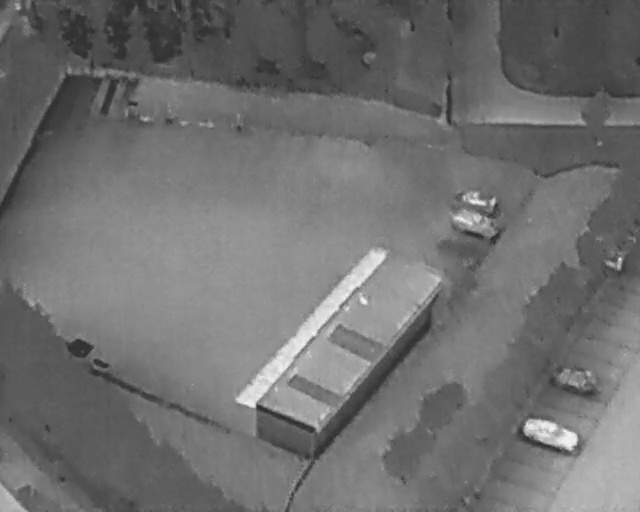Car: (518, 411, 584, 455), (447, 203, 503, 245), (453, 188, 497, 212)
